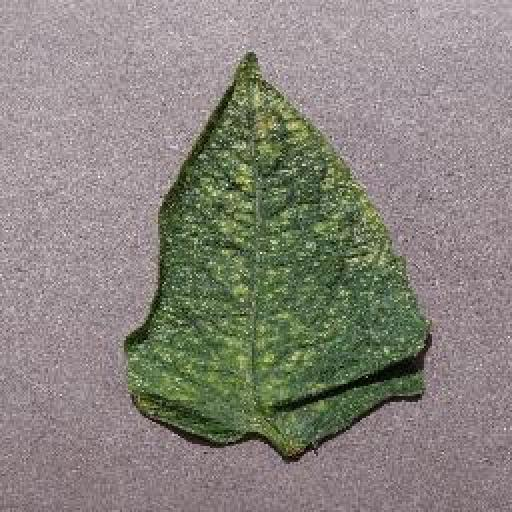Spider Mites: (122, 51, 429, 457)
